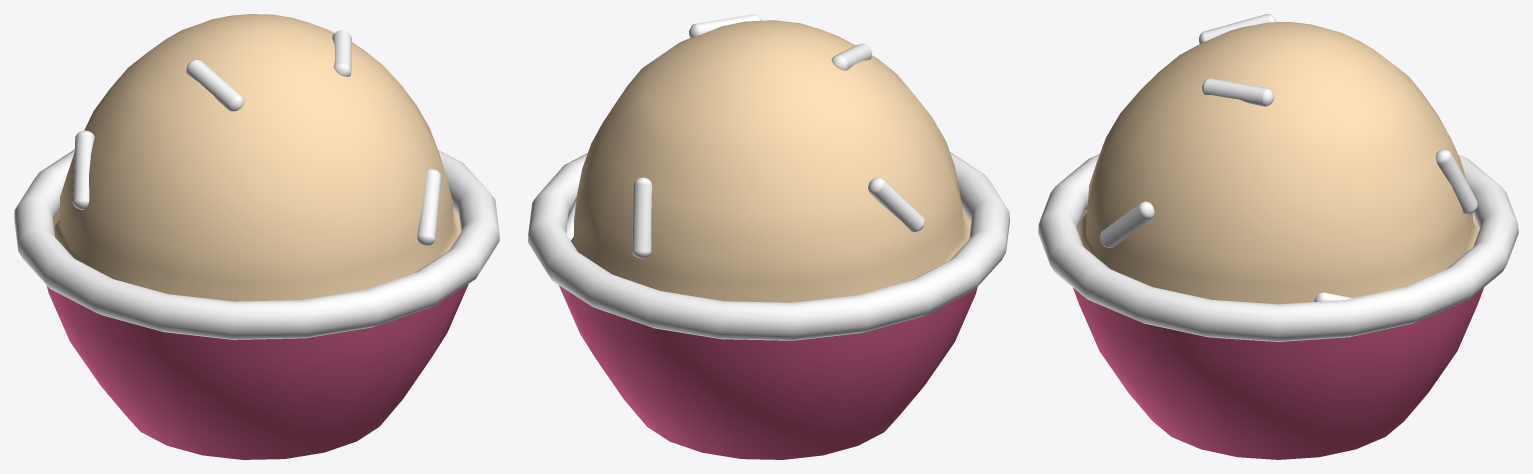
File: SM_iceream_cup_1.fbx
The picture shows the model from 3 angles, left to right: view 1: azimuth 30°, elevation 25°; view 2: azimuth 150°, elevation 25°; view 3: azimuth 270°, elevation 25°; orthographic projection.
Visible parts, largest first — view 1: SM_icecream_cup; view 2: SM_icecream_cup; view 3: SM_icecream_cup.
Part boxes in pixels (x1,y1,x2,y2): SM_icecream_cup: (14, 14, 499, 459); SM_icecream_cup: (528, 14, 1009, 459); SM_icecream_cup: (1038, 14, 1518, 459).
Size of the model in its own units: 397 by 333 by 397.
1 material, 1 textured.
